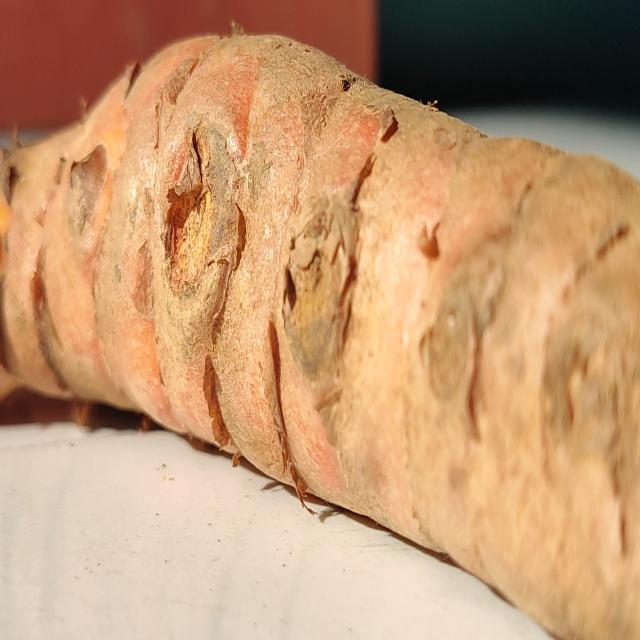ginger: (0, 26, 640, 569)
